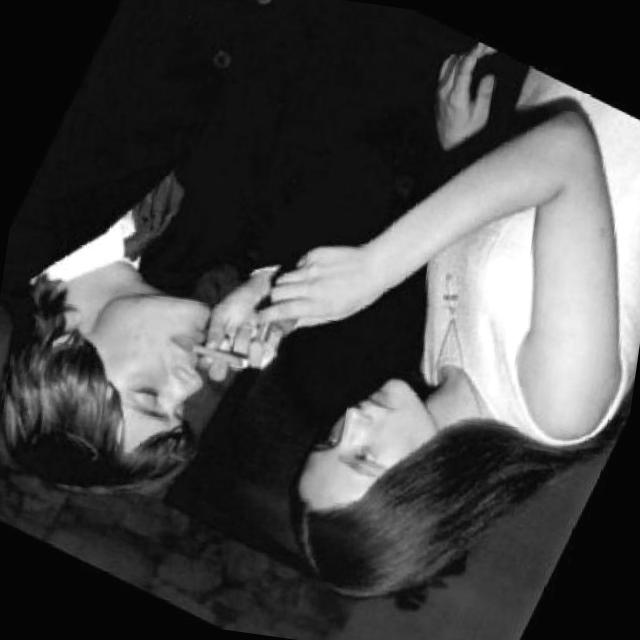cigarette: (185, 257, 282, 396)
